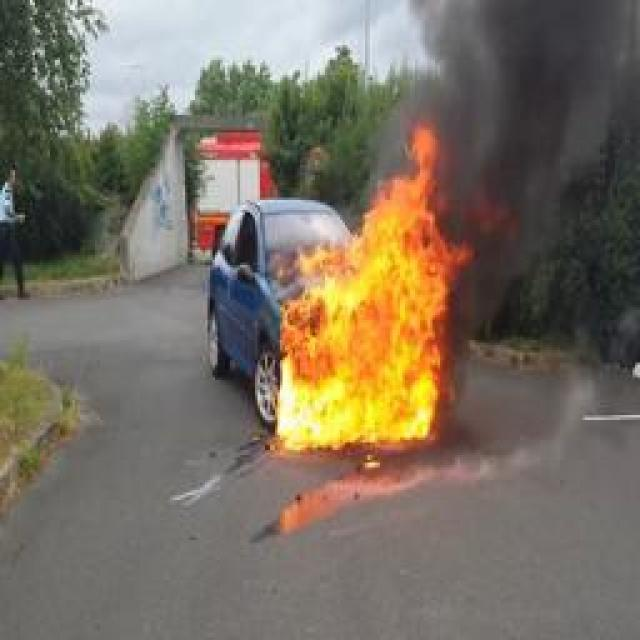Fire: (280, 121, 472, 449)
